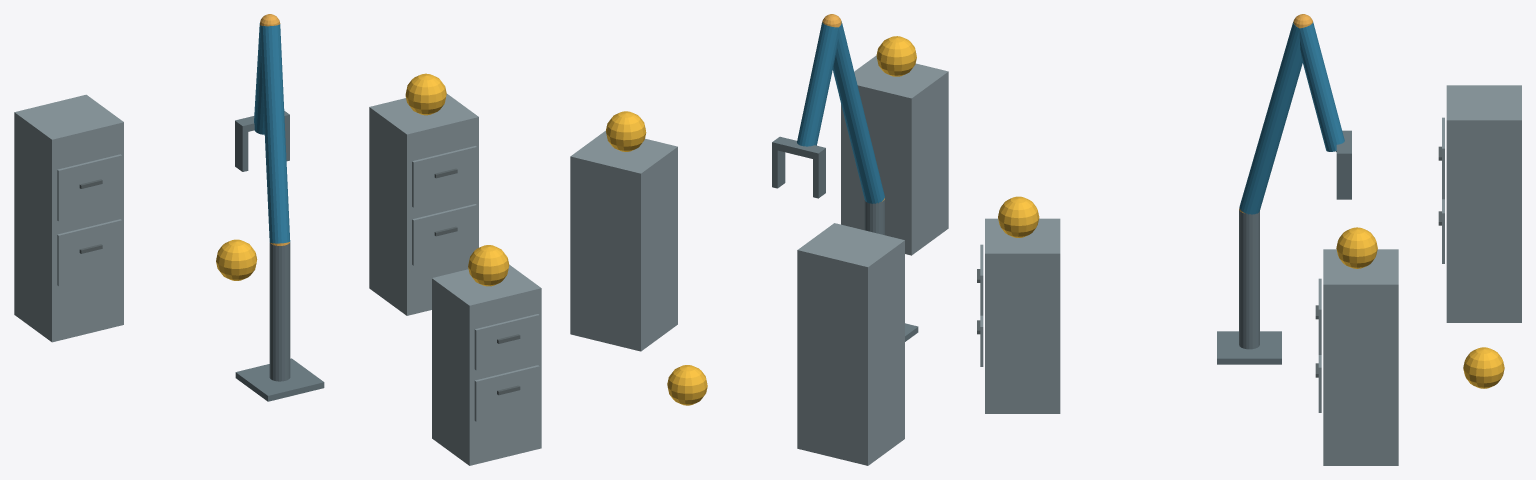
3 renders of one model, left to right at view 1: azimuth 30°, elevation 25°; view 2: azimuth 150°, elevation 25°; view 3: azimuth 270°, elevation 25°, orthographic.
Visible parts, largest first — view 1: cabinet_3 body, cabinet_1 body, cabinet_2 body, moving link 1, cabinet_3 drawer front, cabinet_3 drawer front.001, fixed post, cabinet_2 drawer front.001, cabinet_2 drawer front, cabinet_1 drawer front, cabinet_1 drawer front.001, pedestal (+5 smaller); view 2: cabinet_3 body, cabinet_2 body, cabinet_1 body, moving link 1, moving link 2, released ball_1, released ball_2, ball ball_3, gripper bridge, fixed post, gripper finger 1, gripper finger -1; view 3: cabinet_3 body, cabinet_2 body, cabinet_1 body, moving link 1, fixed post, moving link 2, pedestal, ball ball_3, released ball_2, released ball_1, gripper finger 1.
Boxes of the visible parts, left/top/right/bottom form: cabinet_3 body: left=14, top=94, right=123, bottom=342; cabinet_1 body: left=432, top=265, right=541, bottom=465; cabinet_2 body: left=369, top=93, right=478, bottom=315; moving link 1: left=259, top=24, right=290, bottom=243; cabinet_3 drawer front: left=57, top=219, right=121, bottom=286; cabinet_3 drawer front.001: left=57, top=154, right=121, bottom=221; fixed post: left=269, top=242, right=290, bottom=381; cabinet_2 drawer front.001: left=412, top=146, right=476, bottom=207; cabinet_2 drawer front: left=412, top=204, right=476, bottom=265; cabinet_1 drawer front: left=474, top=365, right=539, bottom=421; cabinet_1 drawer front.001: left=474, top=314, right=539, bottom=370; pedestal: left=235, top=358, right=324, bottom=401; cabinet_3 body: left=797, top=223, right=904, bottom=465; cabinet_2 body: left=570, top=130, right=677, bottom=351; cabinet_1 body: left=841, top=55, right=948, bottom=255; moving link 1: left=832, top=21, right=884, bottom=203; moving link 2: left=797, top=22, right=838, bottom=146; released ball_1: left=876, top=36, right=916, bottom=76; released ball_2: left=606, top=111, right=646, bottom=151; ball ball_3: left=667, top=365, right=707, bottom=405; gripper bridge: left=772, top=136, right=825, bottom=160; fixed post: left=864, top=200, right=884, bottom=235; gripper finger 1: left=772, top=149, right=785, bottom=188; gripper finger -1: left=813, top=155, right=825, bottom=198; cabinet_3 body: left=1446, top=85, right=1521, bottom=322; cabinet_2 body: left=1323, top=249, right=1398, bottom=465; cabinet_1 body: left=985, top=218, right=1060, bottom=413; moving link 1: left=1239, top=22, right=1302, bottom=214; fixed post: left=1239, top=210, right=1259, bottom=349; moving link 2: left=1299, top=22, right=1344, bottom=151; pedestal: left=1217, top=331, right=1281, bottom=364; ball ball_3: left=1463, top=347, right=1504, bottom=388; released ball_2: left=1336, top=227, right=1377, bottom=268; released ball_1: left=998, top=196, right=1039, bottom=237; gripper finger 1: left=1336, top=160, right=1351, bottom=199.
Bounding box in the file's own units: 1.62 × 1.46 × 2.1.
